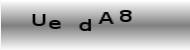8: (119, 9, 133, 23)
A: (97, 11, 115, 25)
U: (30, 12, 46, 26)
d: (78, 18, 93, 32)
e: (48, 19, 62, 30)
